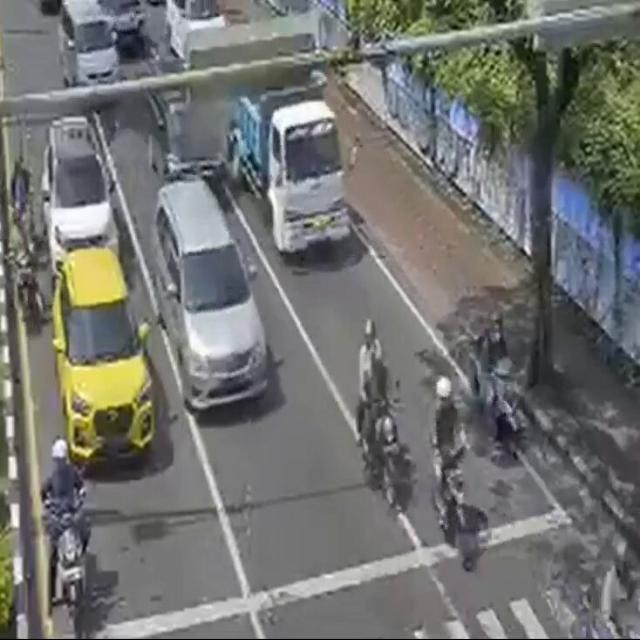car: (160, 181, 278, 430), (49, 247, 160, 466), (48, 117, 122, 299), (57, 0, 119, 92)
motorbike: (350, 299, 403, 553), (42, 438, 95, 636), (436, 354, 477, 567), (481, 330, 520, 444)
truck: (235, 89, 356, 251)
